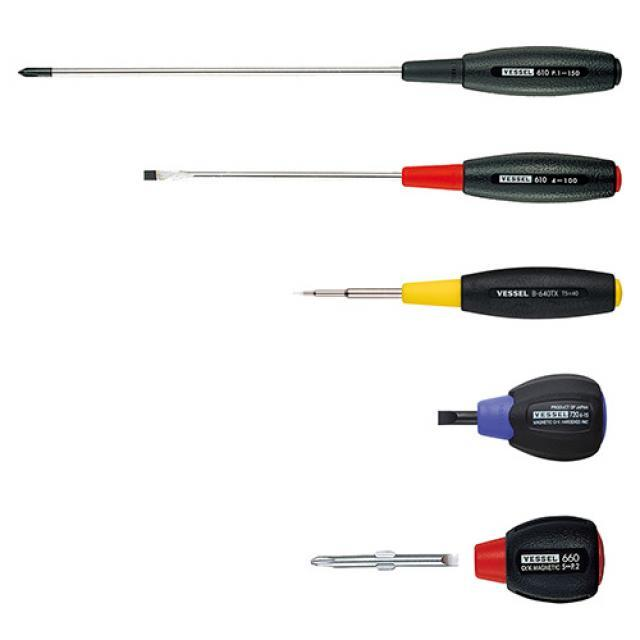screwdriver: (11, 42, 626, 96), (304, 514, 618, 606), (138, 150, 625, 208), (286, 258, 624, 324), (423, 368, 622, 466)
